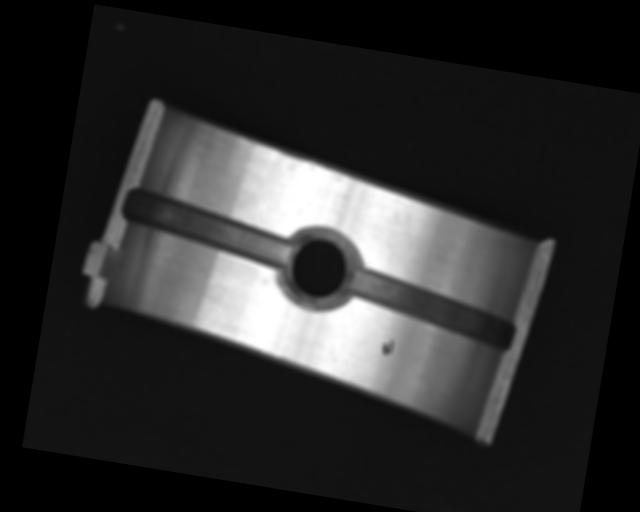blot: (381, 336, 395, 357)
gap: (117, 185, 300, 271), (344, 263, 520, 350)
hole: (281, 225, 362, 310)
